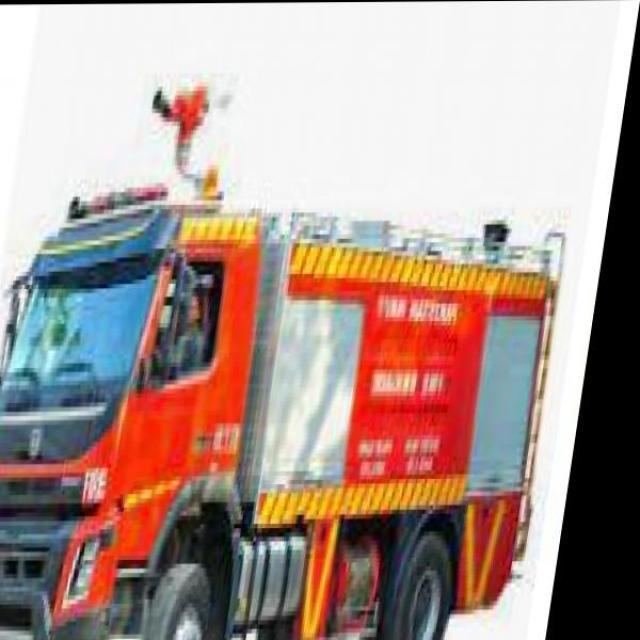emergency: (1, 182, 564, 640)
